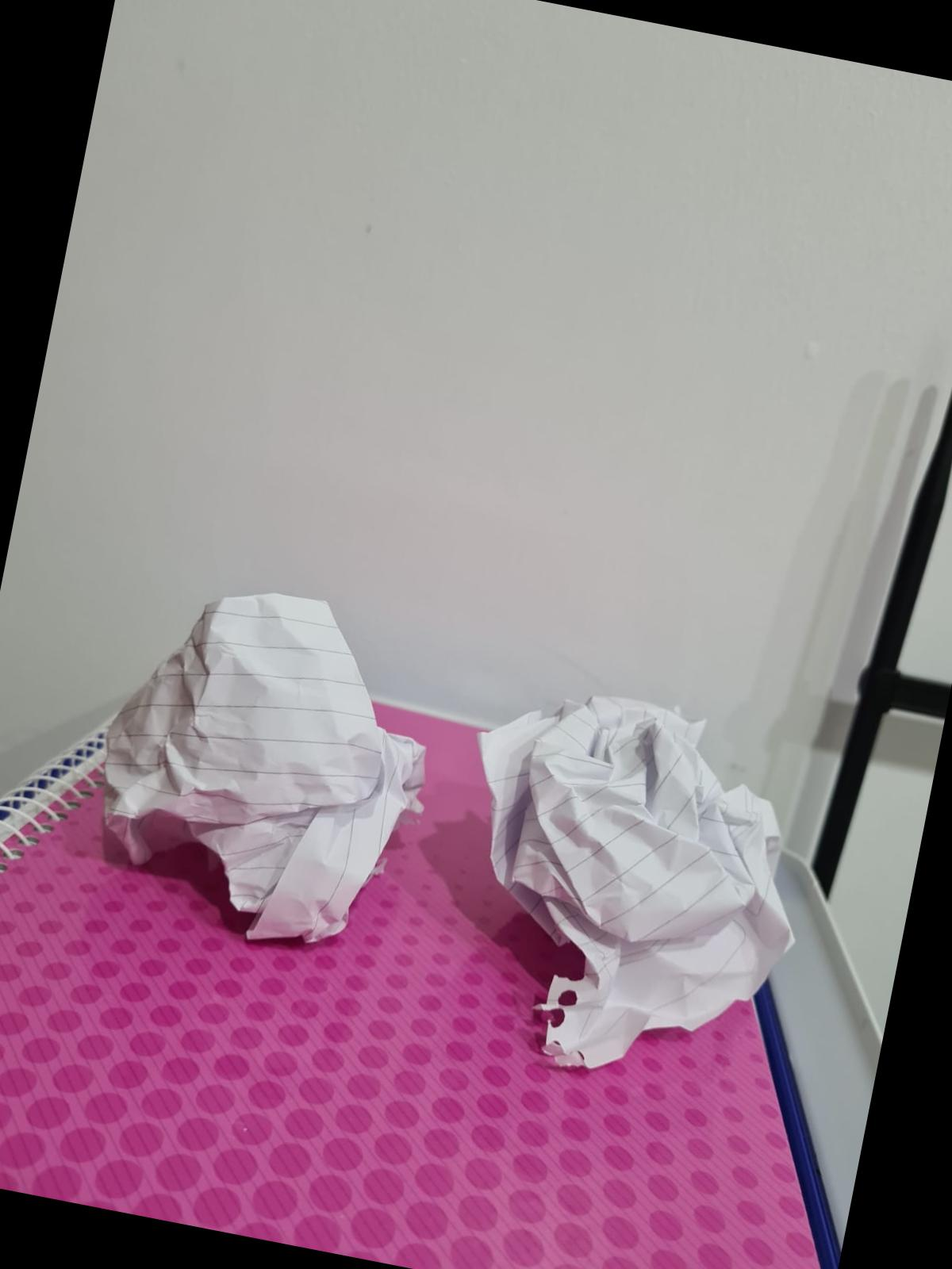Kertas: (475, 694, 817, 1075), (84, 597, 438, 948)
